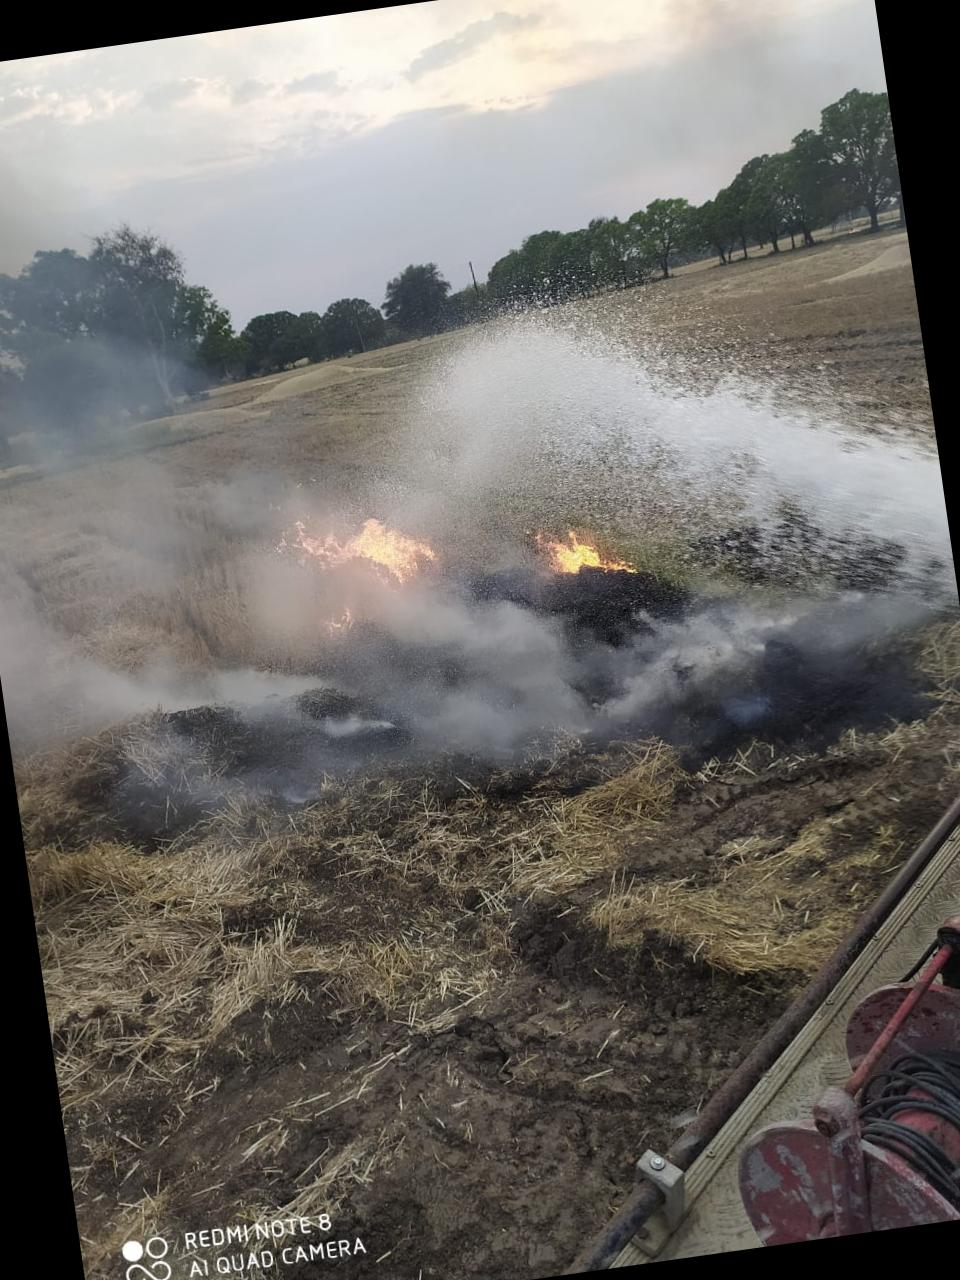Fire: (271, 498, 445, 603), (528, 513, 642, 590)
Smoke: (0, 539, 813, 842), (0, 123, 236, 666)
